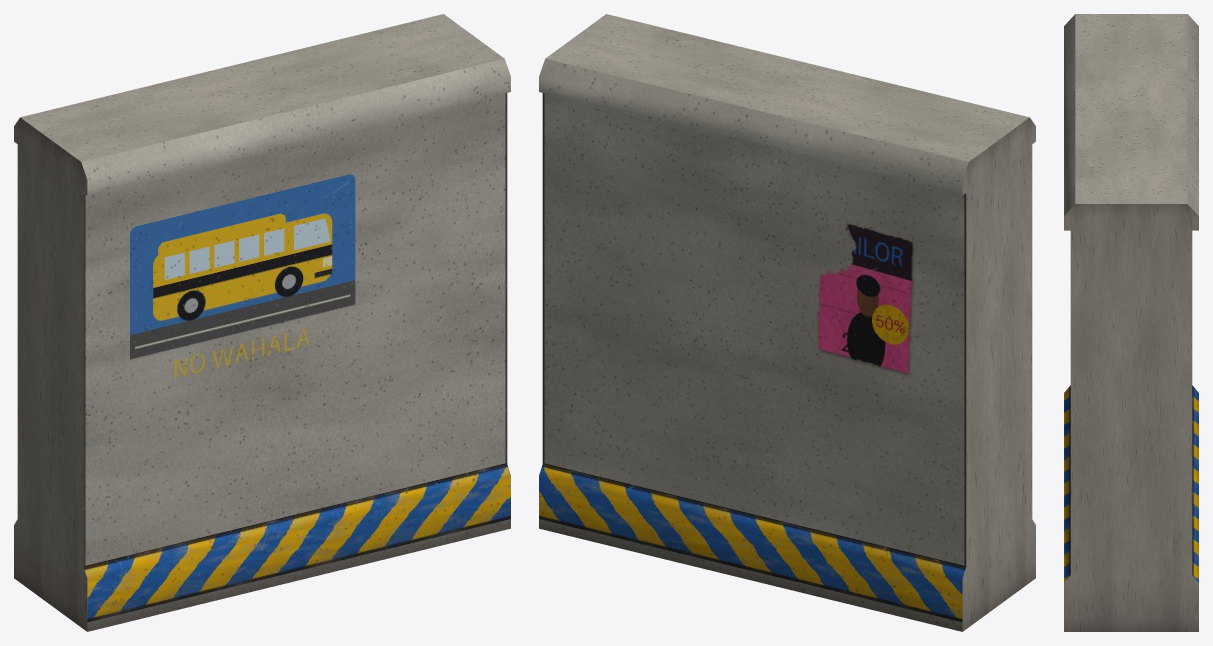
File: env_wall_d-BDzTFzQ4.glb
3 views of the same model, side by side, from view 1: azimuth 30°, elevation 25°; view 2: azimuth 150°, elevation 25°; view 3: azimuth 270°, elevation 25° (orthographic). The views are drawn at different scales.
Parts seen in each view (by area): view 1: env_wall_d_body; view 2: env_wall_d_body; view 3: env_wall_d_body.
Boxes of the visible parts, x1,y1,x2,y2 form: env_wall_d_body: (14,14,510,631); env_wall_d_body: (539,14,1035,631); env_wall_d_body: (1064,14,1198,631).
Size of the model in its own units: 1 by 1.05 by 0.3.
Materials: 1 (1 with a texture image).
